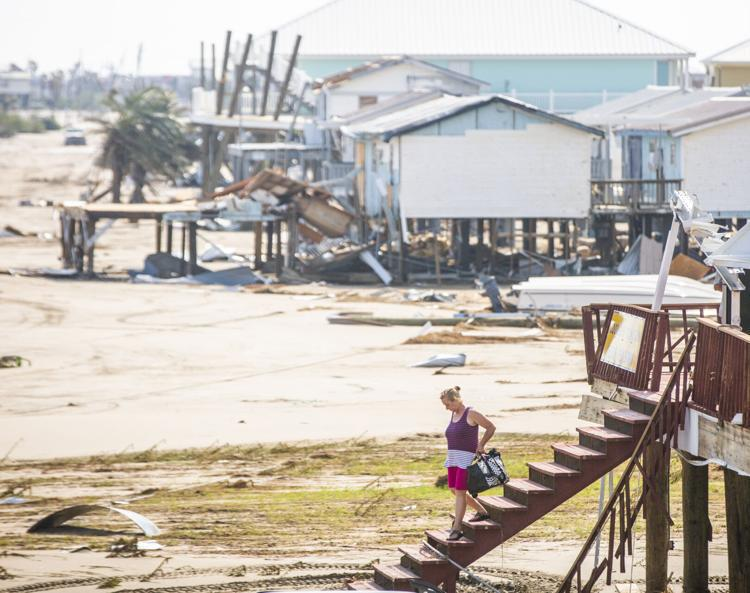destroyed: (46, 140, 324, 276)
minor: (340, 92, 618, 274)
